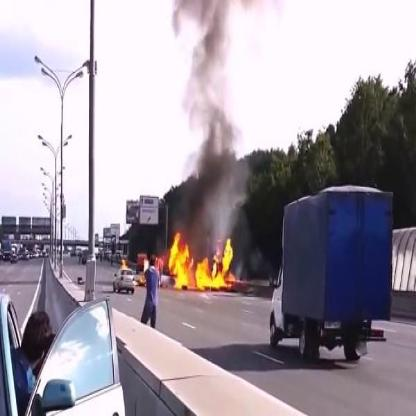fire: (167, 229, 236, 292), (120, 255, 128, 270)
